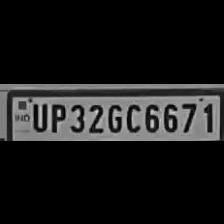1: (198, 99, 218, 131)
2: (86, 100, 104, 132)
3: (66, 98, 86, 132)
6: (160, 98, 178, 132), (142, 100, 160, 132)
7: (179, 98, 197, 132)
C: (123, 100, 141, 132)
G: (104, 100, 122, 132)
P: (48, 100, 66, 132)
U: (28, 99, 48, 131)
